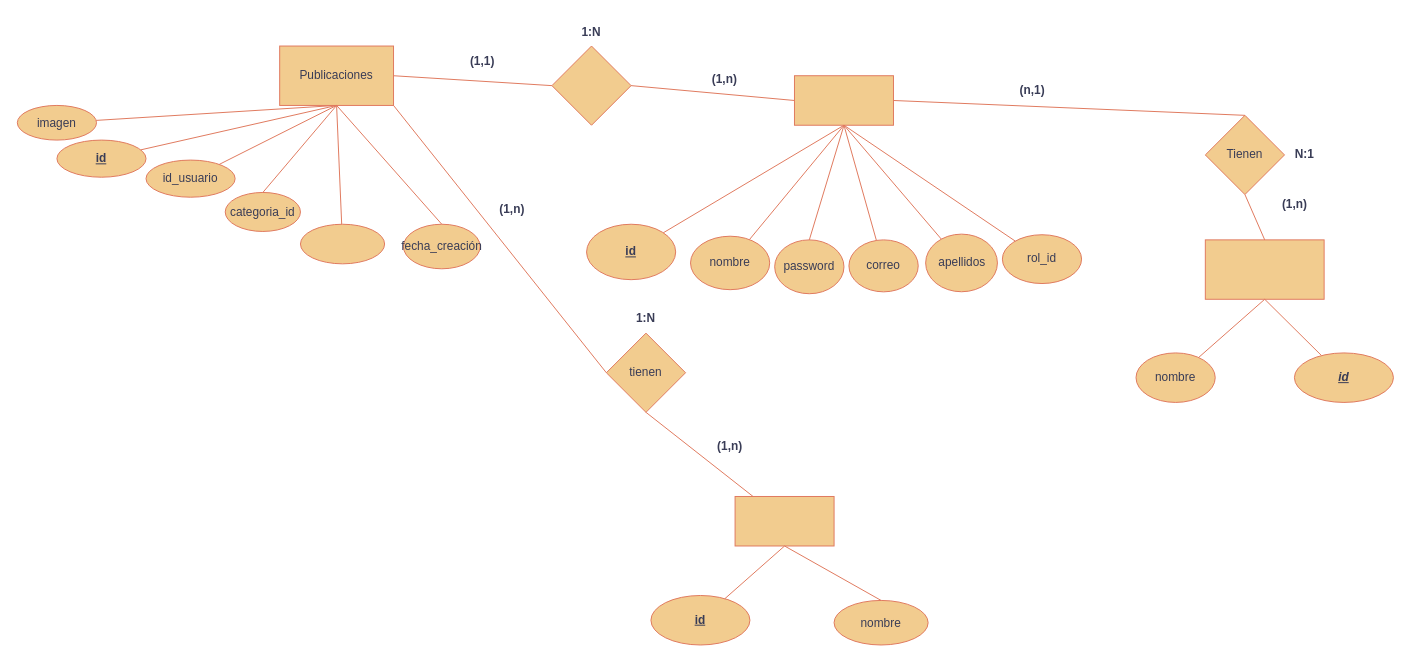
Image size: 1411x662. Some labels were removed from this diagram. Each missing label, with the centre of its shape:
"Categorias" belongs at point (784, 520).
"contenido" belongs at point (342, 243).
"crean" belongs at point (591, 85).
"Roles" belongs at point (1264, 269).
"Usuarios" belongs at point (843, 100).
